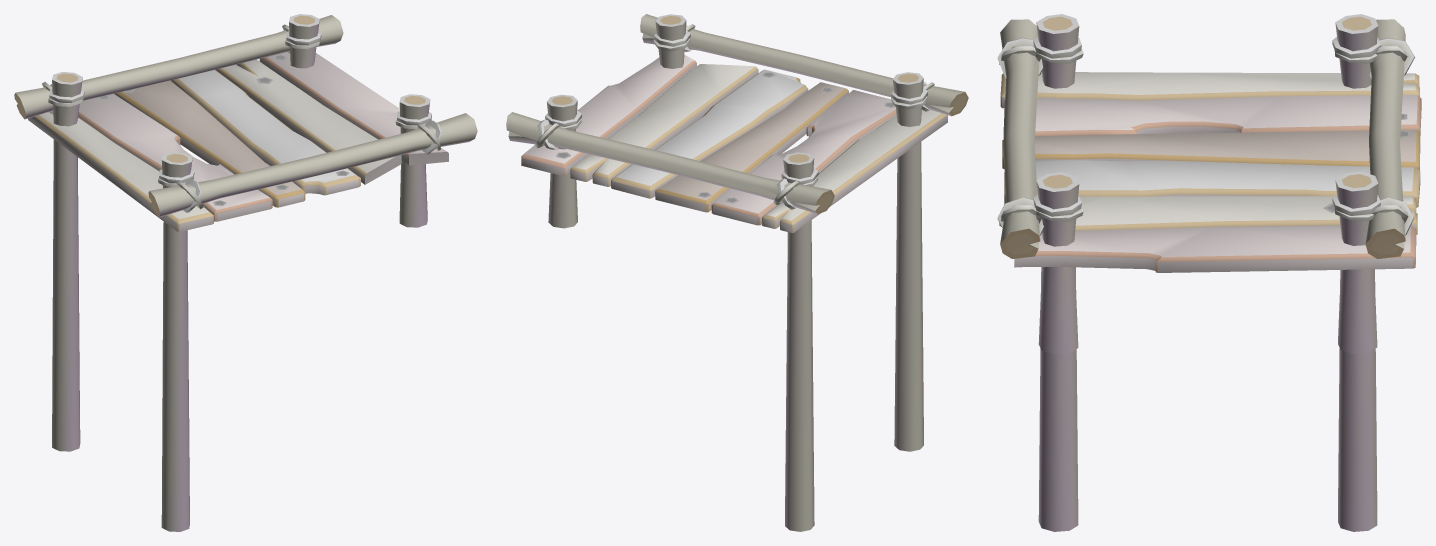
The model's file is herbertDock.glb.
3 renders of one model, left to right at view 1: azimuth 30°, elevation 25°; view 2: azimuth 150°, elevation 25°; view 3: azimuth 270°, elevation 25°, orthographic. The views are drawn at different scales.
Parts seen in each view (by area): view 1: herbertDock; view 2: herbertDock; view 3: herbertDock.
Part boxes in pixels (x1,y1,x2,y2): herbertDock: [14, 14, 477, 531]; herbertDock: [506, 14, 968, 531]; herbertDock: [997, 14, 1421, 531].
Size of the model in its own units: 4.48 by 4.93 by 3.78.
